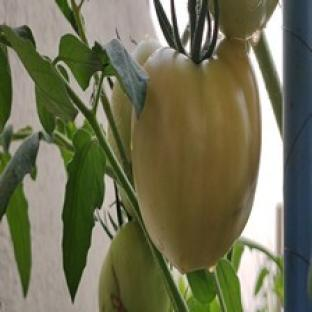Tomato: (133, 39, 260, 272), (99, 222, 169, 311), (112, 81, 132, 165)
